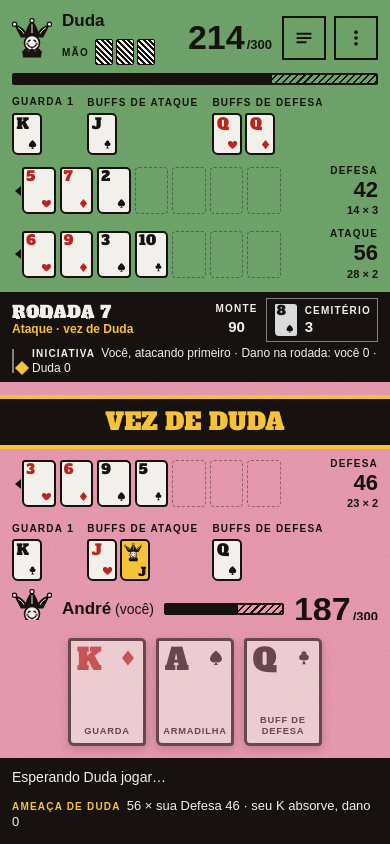
o toque que pulou e o clique que não veio › sem clique depois (rolagem, o navegador descartou), o Enter do teclado que vem depois não é engolido
Press the mouse on the element that starts with "Duda" at (195, 422), box [0,0,389,843]
Wait 500 ms
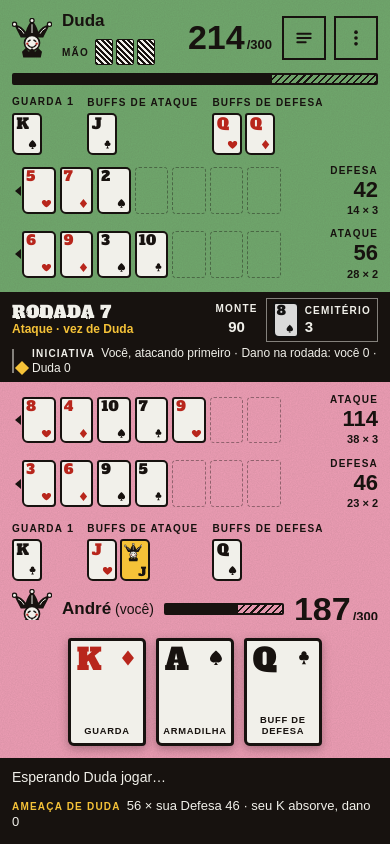
Click the button named "Histórico". click: (304, 38)
box: [282,16,326,60]
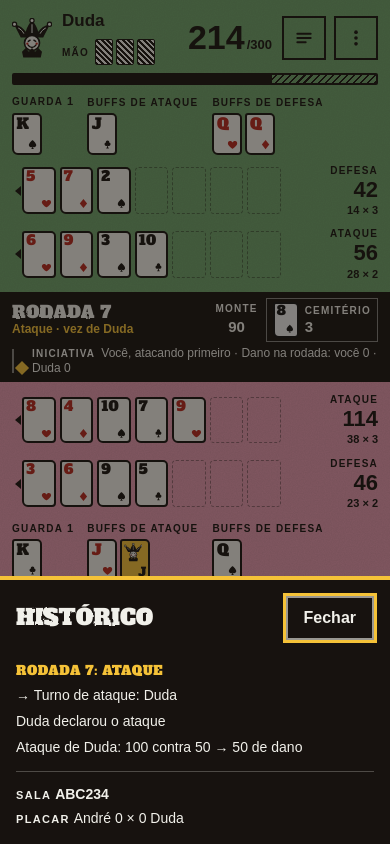
Check: the button named "Histórico" is expanded, box [282,16,326,60]
